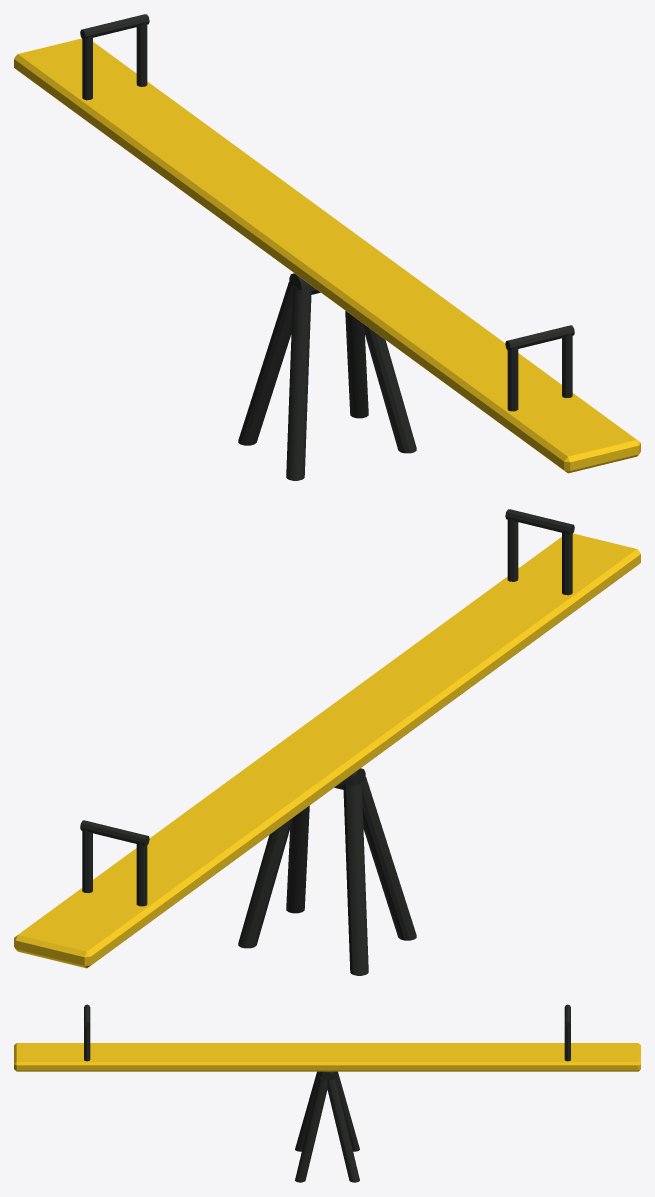
File: subibaja.glb
3 renders of one model, top to bottom at view 1: azimuth 30°, elevation 25°; view 2: azimuth 150°, elevation 25°; view 3: azimuth 270°, elevation 25°, orthographic. The views are drawn at different scales.
Visible parts, largest first — view 1: pieza_tabla, subibaja_caballete; view 2: pieza_tabla, subibaja_caballete; view 3: pieza_tabla, subibaja_caballete.
Boxes of the visible parts, x1,y1,x2,y2 form: pieza_tabla: (14,14,640,473); subibaja_caballete: (238,273,416,480); pieza_tabla: (14,509,640,968); subibaja_caballete: (238,768,416,975); pieza_tabla: (14,1004,640,1073); subibaja_caballete: (295,1071,359,1182).
Size of what is drawn, in the model's own units: 0.4 by 0.8 by 3.
